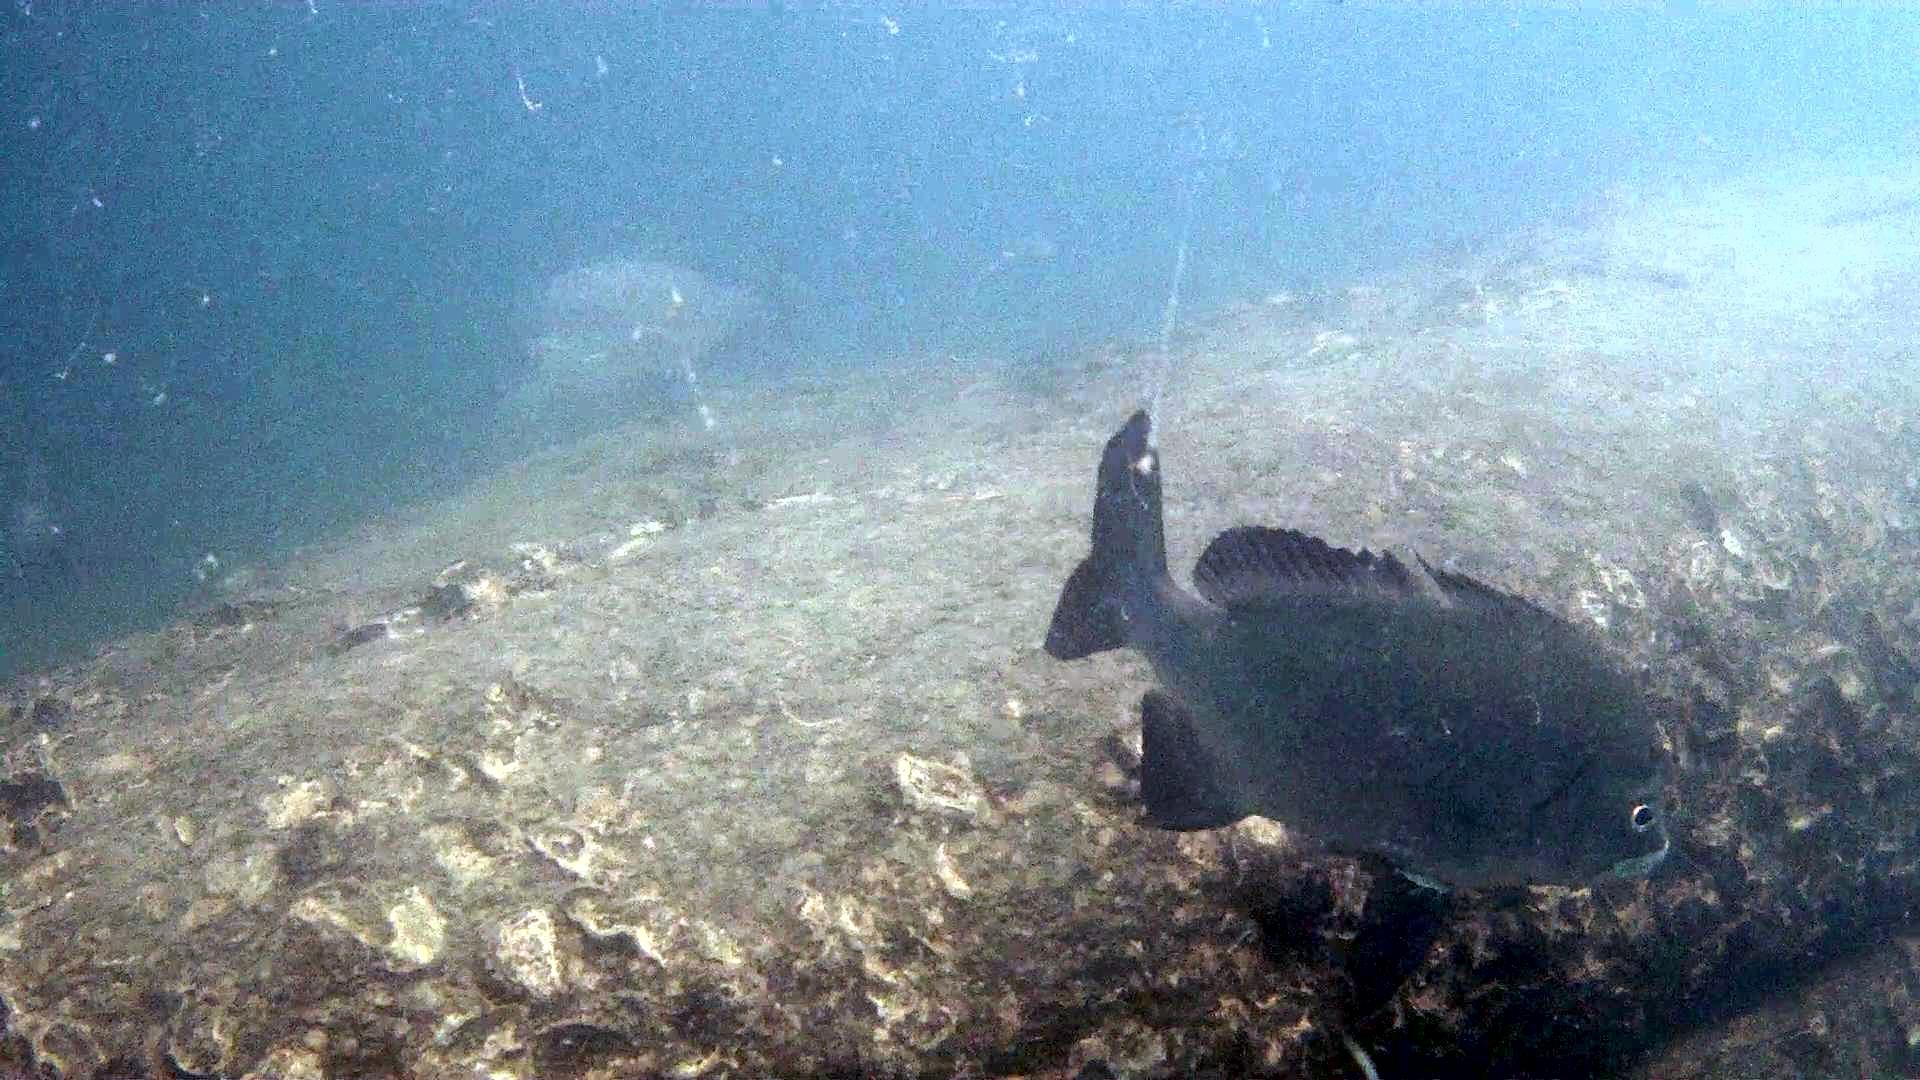acanthopagrus palmaris: (1023, 403, 1679, 1000)
